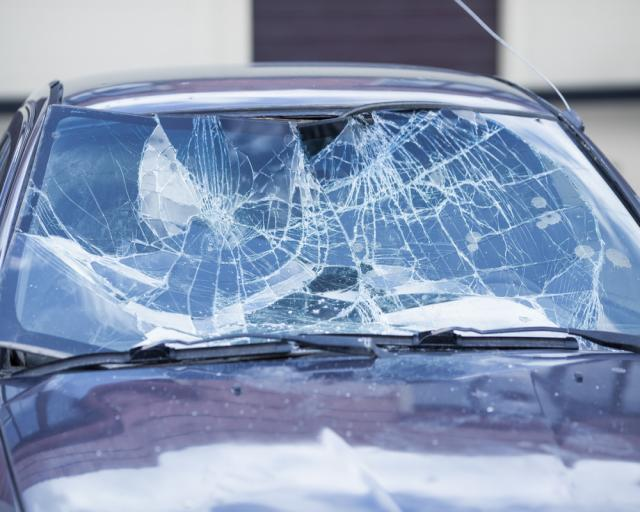glass shatter: (0, 105, 640, 357)
